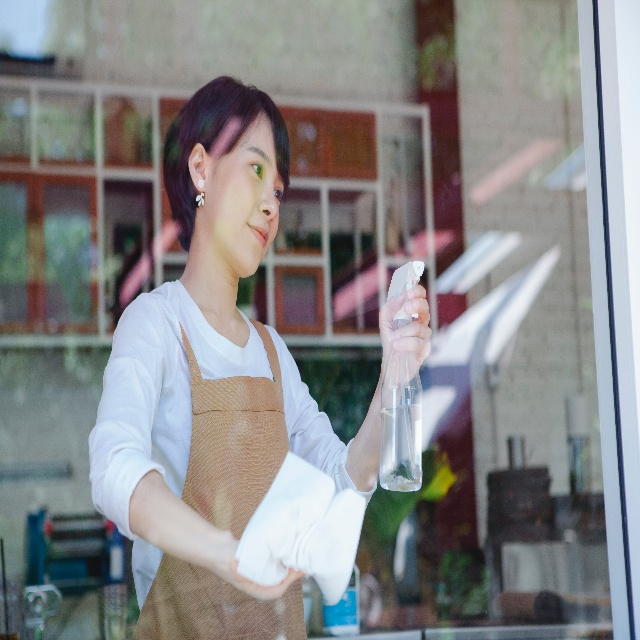Sin_guantes: (225, 530, 310, 601), (375, 282, 433, 386)
